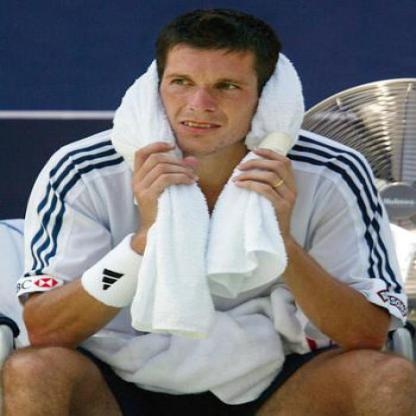face: (157, 24, 261, 159)
